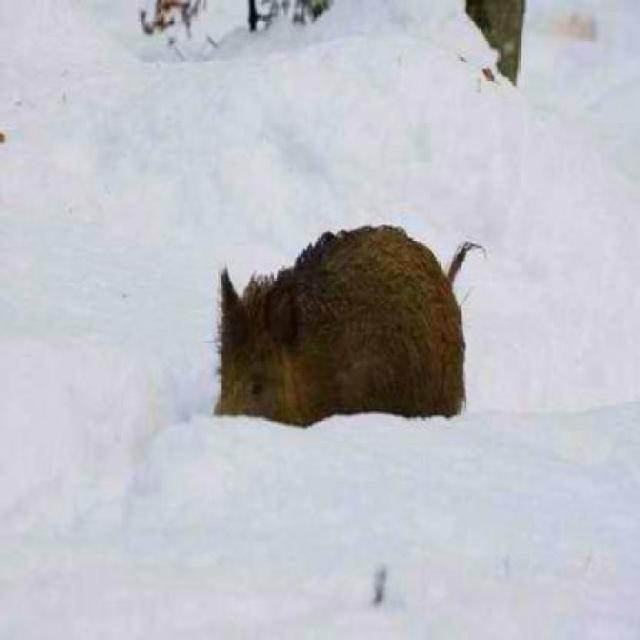Boar: (158, 148, 536, 468)
